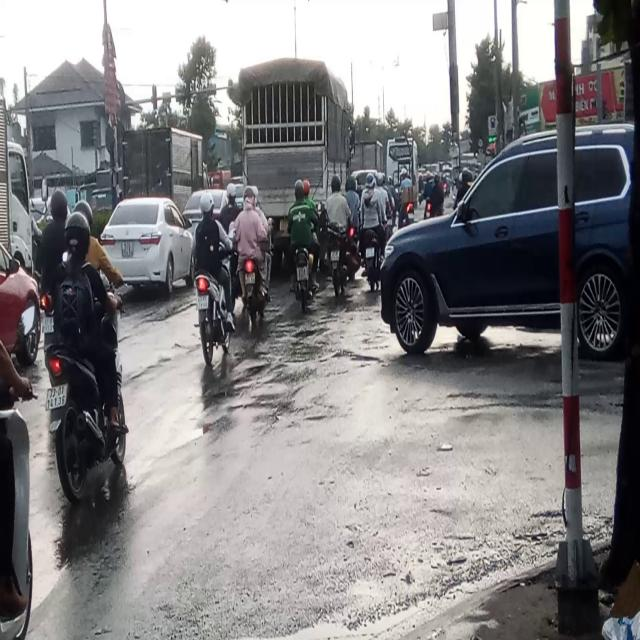bien_trang: (48, 378, 68, 410)
